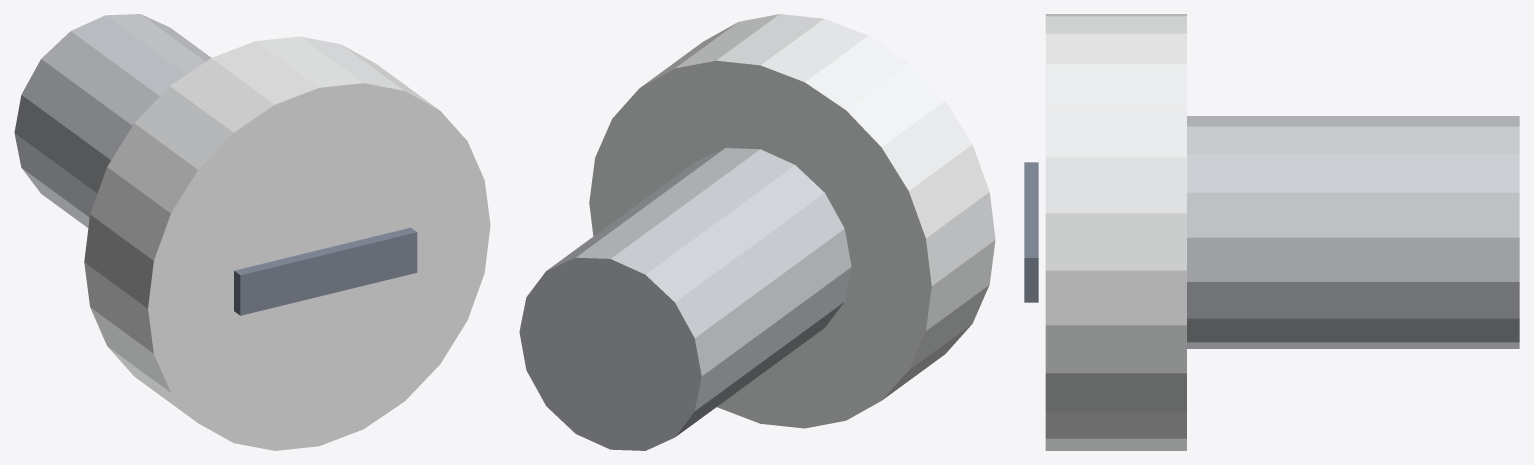
File: service_screw.glb
The picture shows the model from 3 angles, left to right: view 1: azimuth 30°, elevation 25°; view 2: azimuth 150°, elevation 25°; view 3: azimuth 270°, elevation 25°; orthographic projection. The views are drawn at different scales.
Parts seen in each view (by area): view 1: Fastener head, Screw shaft, Screw slot; view 2: Fastener head, Screw shaft; view 3: Screw shaft, Fastener head, Screw slot.
Part boxes in pixels (box(x1,y1,x2,y2)): Fastener head: box(84, 36, 490, 450); Screw shaft: box(14, 14, 211, 227); Screw slot: box(234, 227, 417, 315); Fastener head: box(589, 14, 995, 428); Screw shaft: box(519, 148, 851, 450); Screw shaft: box(1187, 116, 1519, 348); Fastener head: box(1045, 14, 1186, 450); Screw slot: box(1024, 162, 1038, 302).
Size of the model in its own units: 0.124 by 0.124 by 0.14.
